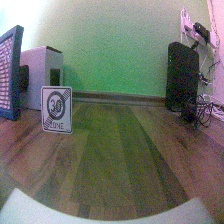dreisiger_zone_ende: (41, 86, 73, 134)
